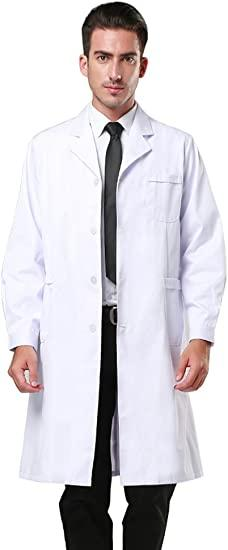lab_coat: (4, 100, 228, 484)
